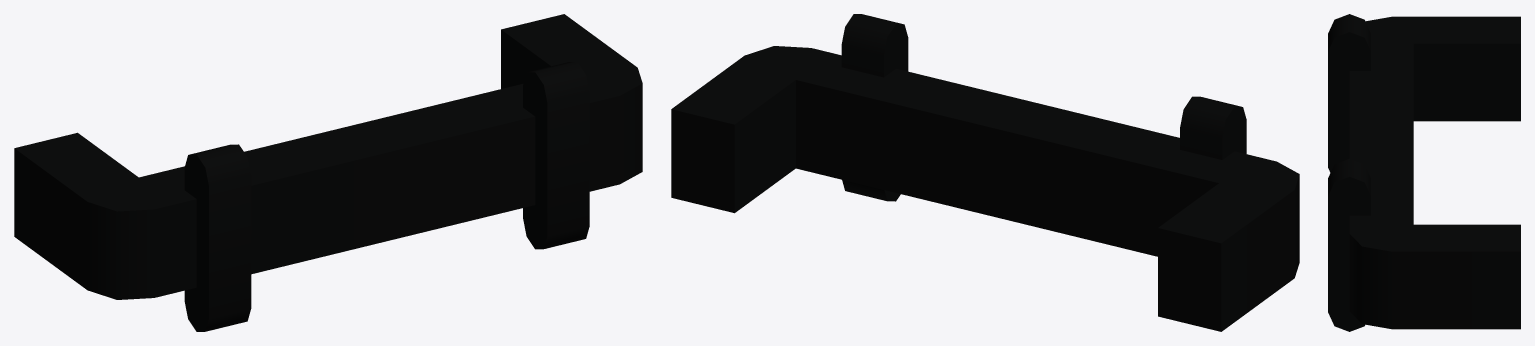
The model's file is debris-bumper.glb.
3 views of the same model, side by side, from view 1: azimuth 30°, elevation 25°; view 2: azimuth 150°, elevation 25°; view 3: azimuth 270°, elevation 25° (orthographic). The views are drawn at different scales.
Visible parts, largest first — view 1: debris-bumper; view 2: debris-bumper; view 3: debris-bumper.
Part boxes in pixels (x1,y1,x2,y2): debris-bumper: (14, 14, 642, 331); debris-bumper: (671, 14, 1299, 331); debris-bumper: (1328, 14, 1520, 331).
Bounding box in the file's own units: 1.3 × 0.4001 × 0.4503.
1 material, 1 textured.
